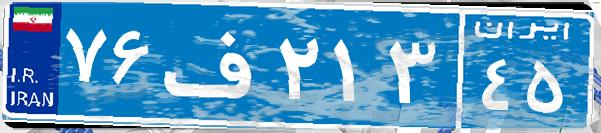1: (330, 28, 385, 110)
2: (273, 28, 330, 110)
3: (385, 28, 445, 110)
4: (475, 38, 525, 113)
5: (525, 38, 570, 115)
6: (110, 28, 158, 105)
7: (57, 26, 110, 107)
ف: (158, 15, 273, 115)
